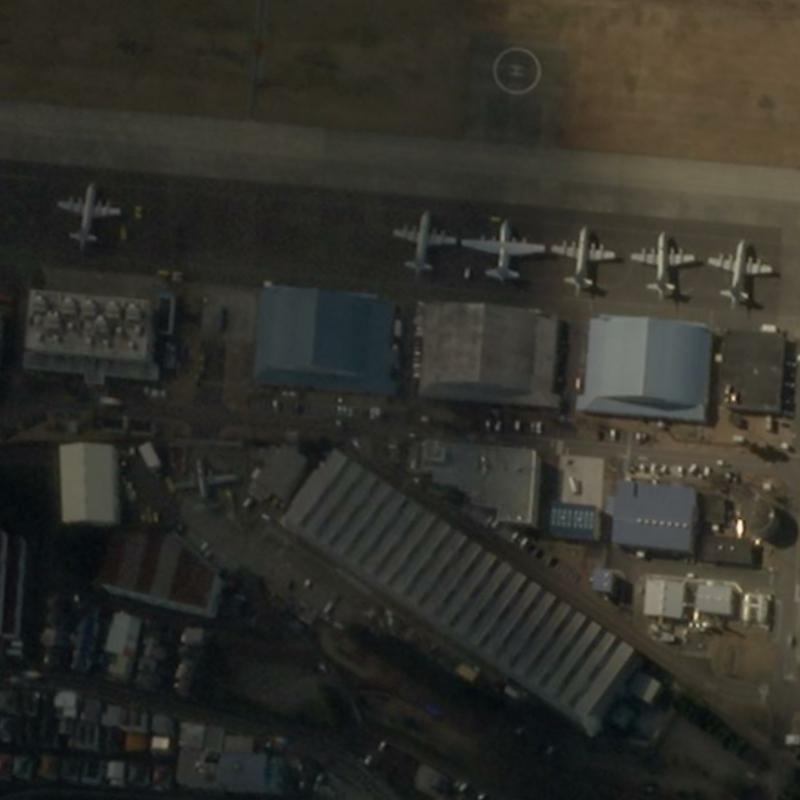A2: (458, 213, 546, 284)
A9: (622, 219, 698, 303), (548, 213, 619, 299), (703, 227, 775, 311), (380, 197, 455, 277), (51, 174, 125, 246)
